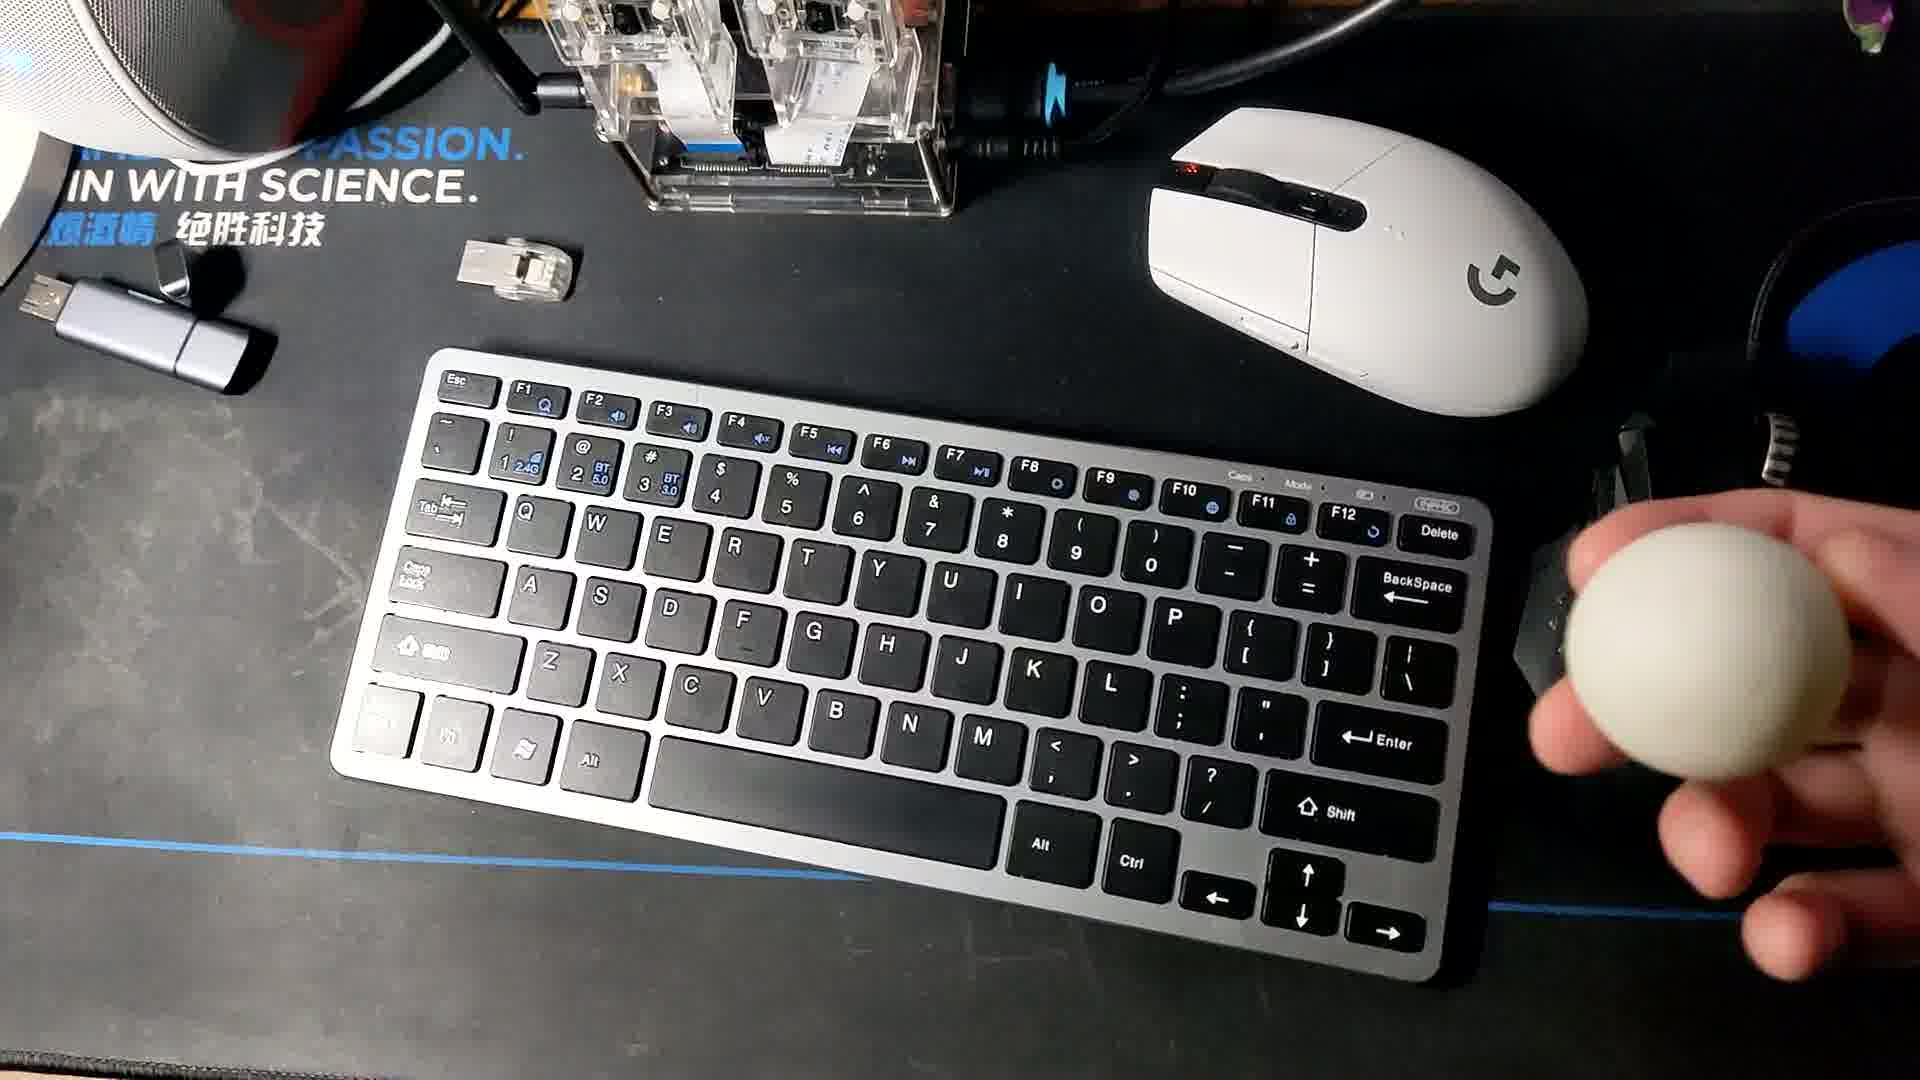Ball: (1555, 524, 1850, 789)
